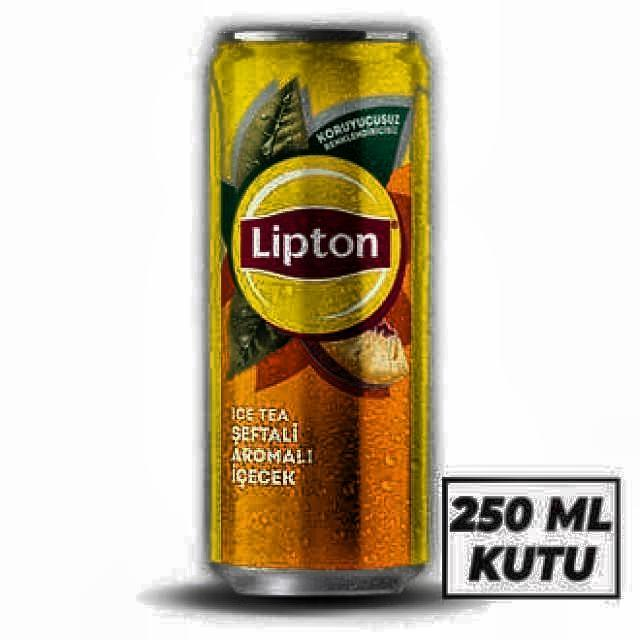metal: (208, 26, 430, 598)
